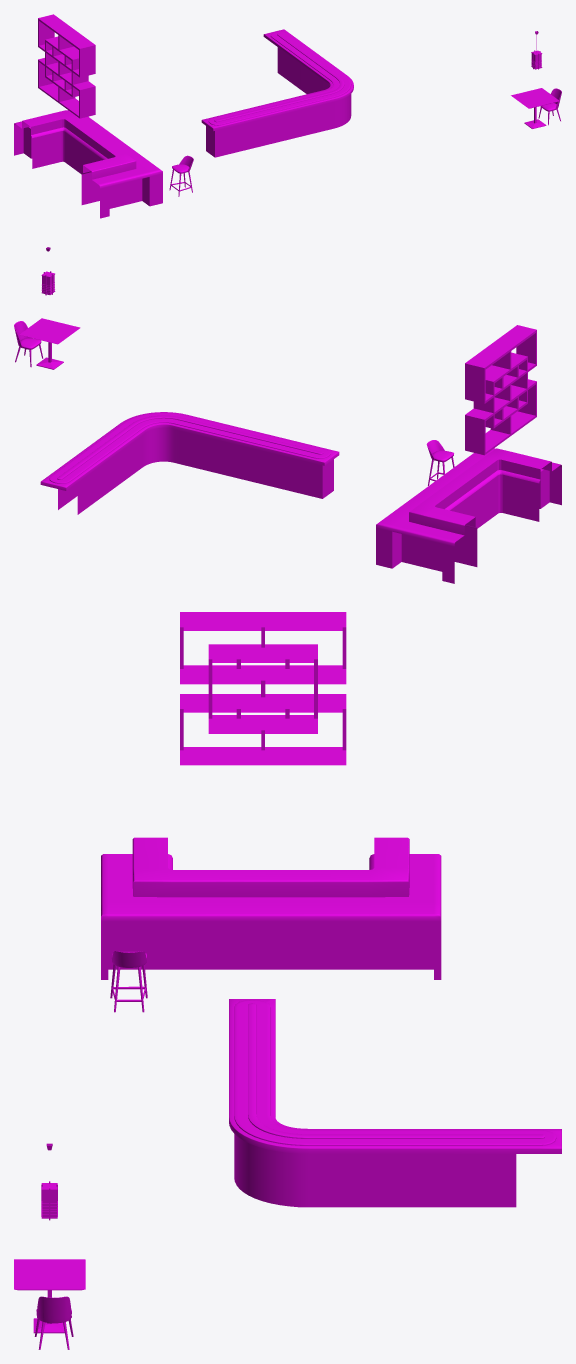
File: Atlas_Mobili.fbx
3 views of the same model, one above another, from view 1: azimuth 30°, elevation 25°; view 2: azimuth 150°, elevation 25°; view 3: azimuth 270°, elevation 25° (orthographic). The views are drawn at different scales.
Parts seen in each view (by area): view 1: Rullo, Bancone, scaffale, Table, Sgabello, Chair; view 2: Rullo, Bancone, scaffale, Table, Sgabello, Chair; view 3: Bancone, Rullo, scaffale, Table, Sgabello, Chair.
Boxes of the visible parts, box(x1,y1,x2,y2) form: Rullo: box(201, 29, 353, 157); Bancone: box(14, 110, 162, 218); scaffale: box(38, 14, 95, 118); Table: box(511, 88, 559, 128); Sgabello: box(169, 155, 193, 196); Chair: box(538, 88, 561, 125); Rullo: box(40, 412, 339, 514); Bancone: box(376, 448, 561, 583); scaffale: box(465, 325, 536, 455); Table: box(19, 318, 80, 369); Sgabello: box(426, 440, 454, 485); Chair: box(14, 321, 43, 367); Bancone: box(101, 837, 441, 979); Rullo: box(229, 999, 561, 1207); scaffale: box(180, 612, 346, 765); Table: box(14, 1259, 85, 1333); Sgabello: box(110, 951, 147, 1012); Chair: box(34, 1296, 73, 1349).
Size of the model in its own units: 1426 by 471 by 761.
